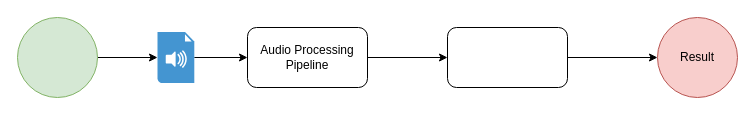
The diagram is 755 pixels wide and 115 high, and some of its shapes have lost their labels. Each missing label, with the centre of its shape:
"NLP Pipeline" goes at pixel 507 57.
"Record" goes at pixel 57 57.
